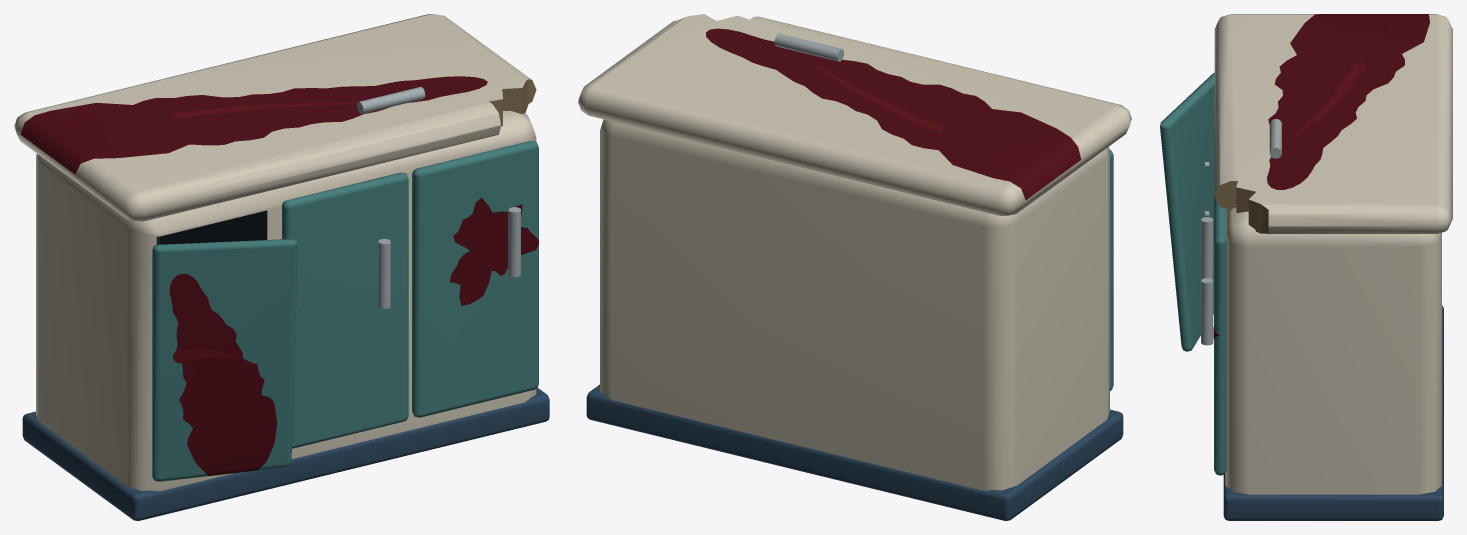
The model's file is coffee_counter.glb.
3 renders of one model, left to right at view 1: azimuth 30°, elevation 25°; view 2: azimuth 150°, elevation 25°; view 3: azimuth 270°, elevation 25°, orthographic. The views are drawn at different scales.
Parts seen in each view (by area): view 1: Outbreak_11_standard_coffee_counter_Static; view 2: Outbreak_11_standard_coffee_counter_Static; view 3: Outbreak_11_standard_coffee_counter_Static.
Boxes of the visible parts, x1,y1,x2,y2 form: Outbreak_11_standard_coffee_counter_Static: [14, 14, 549, 520]; Outbreak_11_standard_coffee_counter_Static: [578, 14, 1131, 520]; Outbreak_11_standard_coffee_counter_Static: [1160, 14, 1452, 520].
Bounding box in the file's own units: 1.33 × 0.999 × 0.8108.
